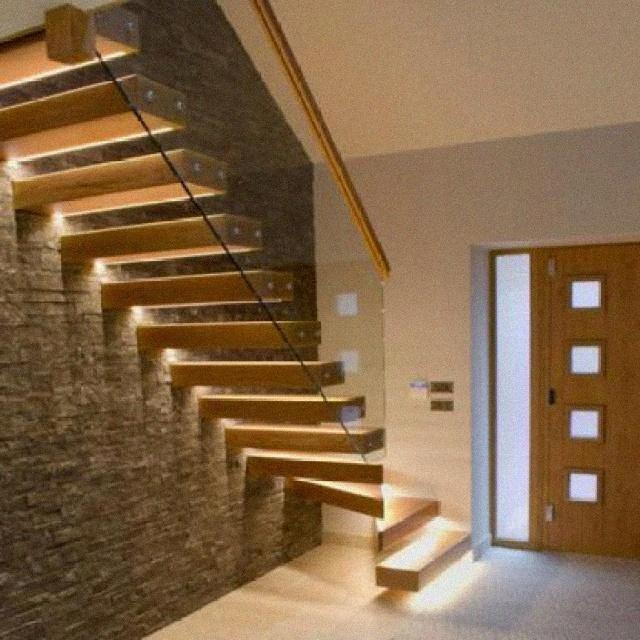stair: (1, 11, 474, 589)
